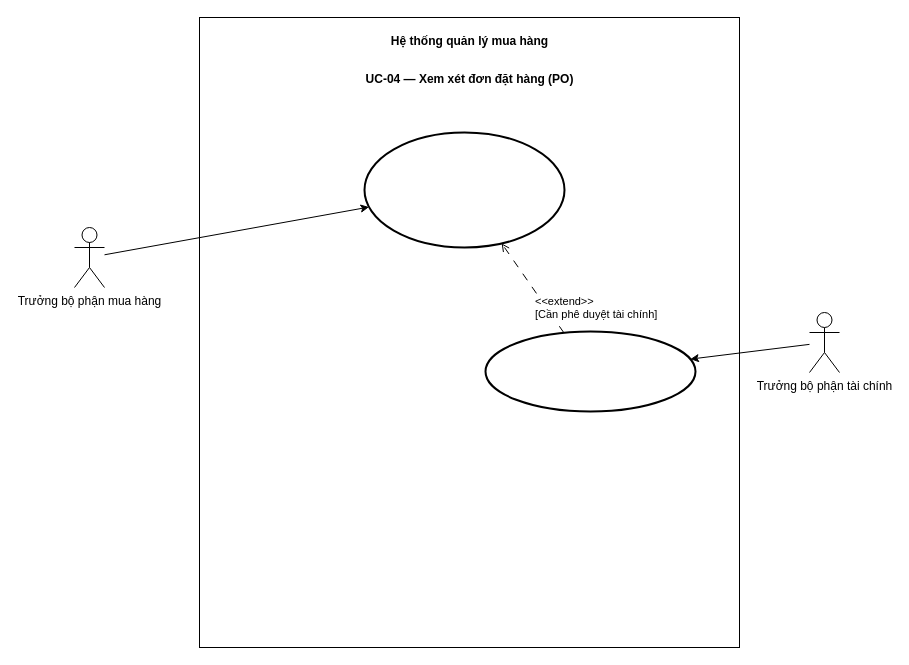
This 909x665 diagram has some shape labels left out. Here are the shapes that lost their labels. From the top down, the centre of each, then its label:
At point (464, 189): "Xem xét đơn đặt hàng Điểm mở rộng: Xem xét tài chính bổ sung".
At point (590, 371): "Thực hiện xem xét tài chính bổ sung".
